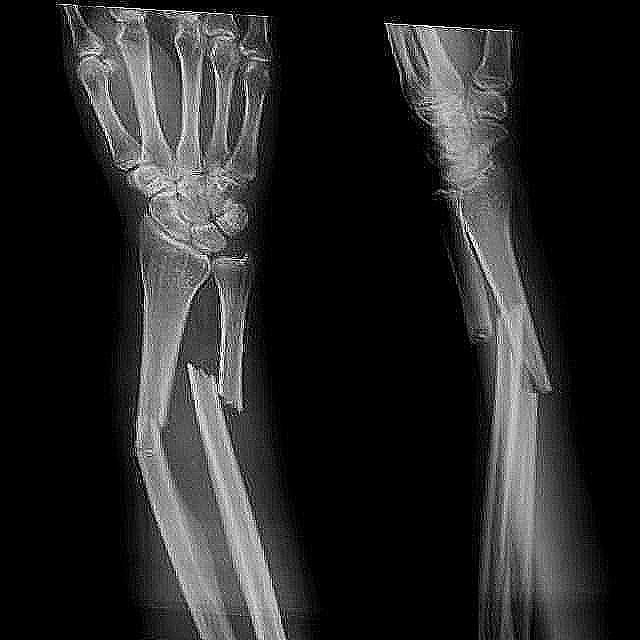bone: (183, 343, 255, 425), (124, 378, 177, 470), (508, 327, 561, 416), (458, 304, 506, 382)
